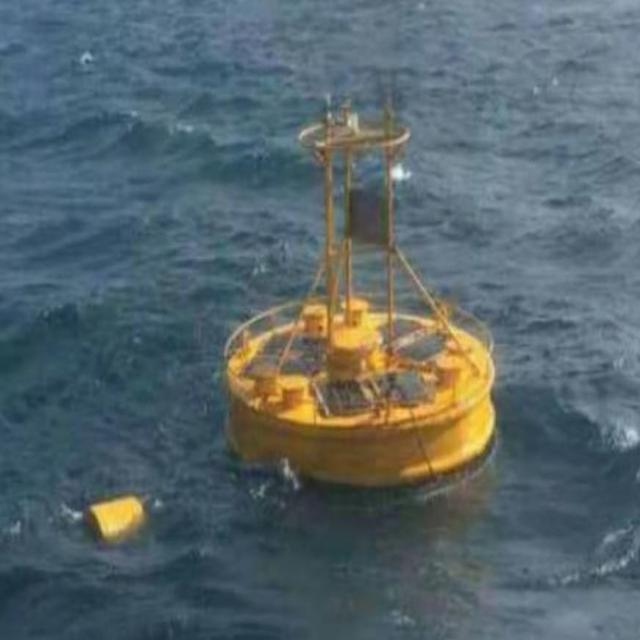buoy: (218, 86, 500, 479)
